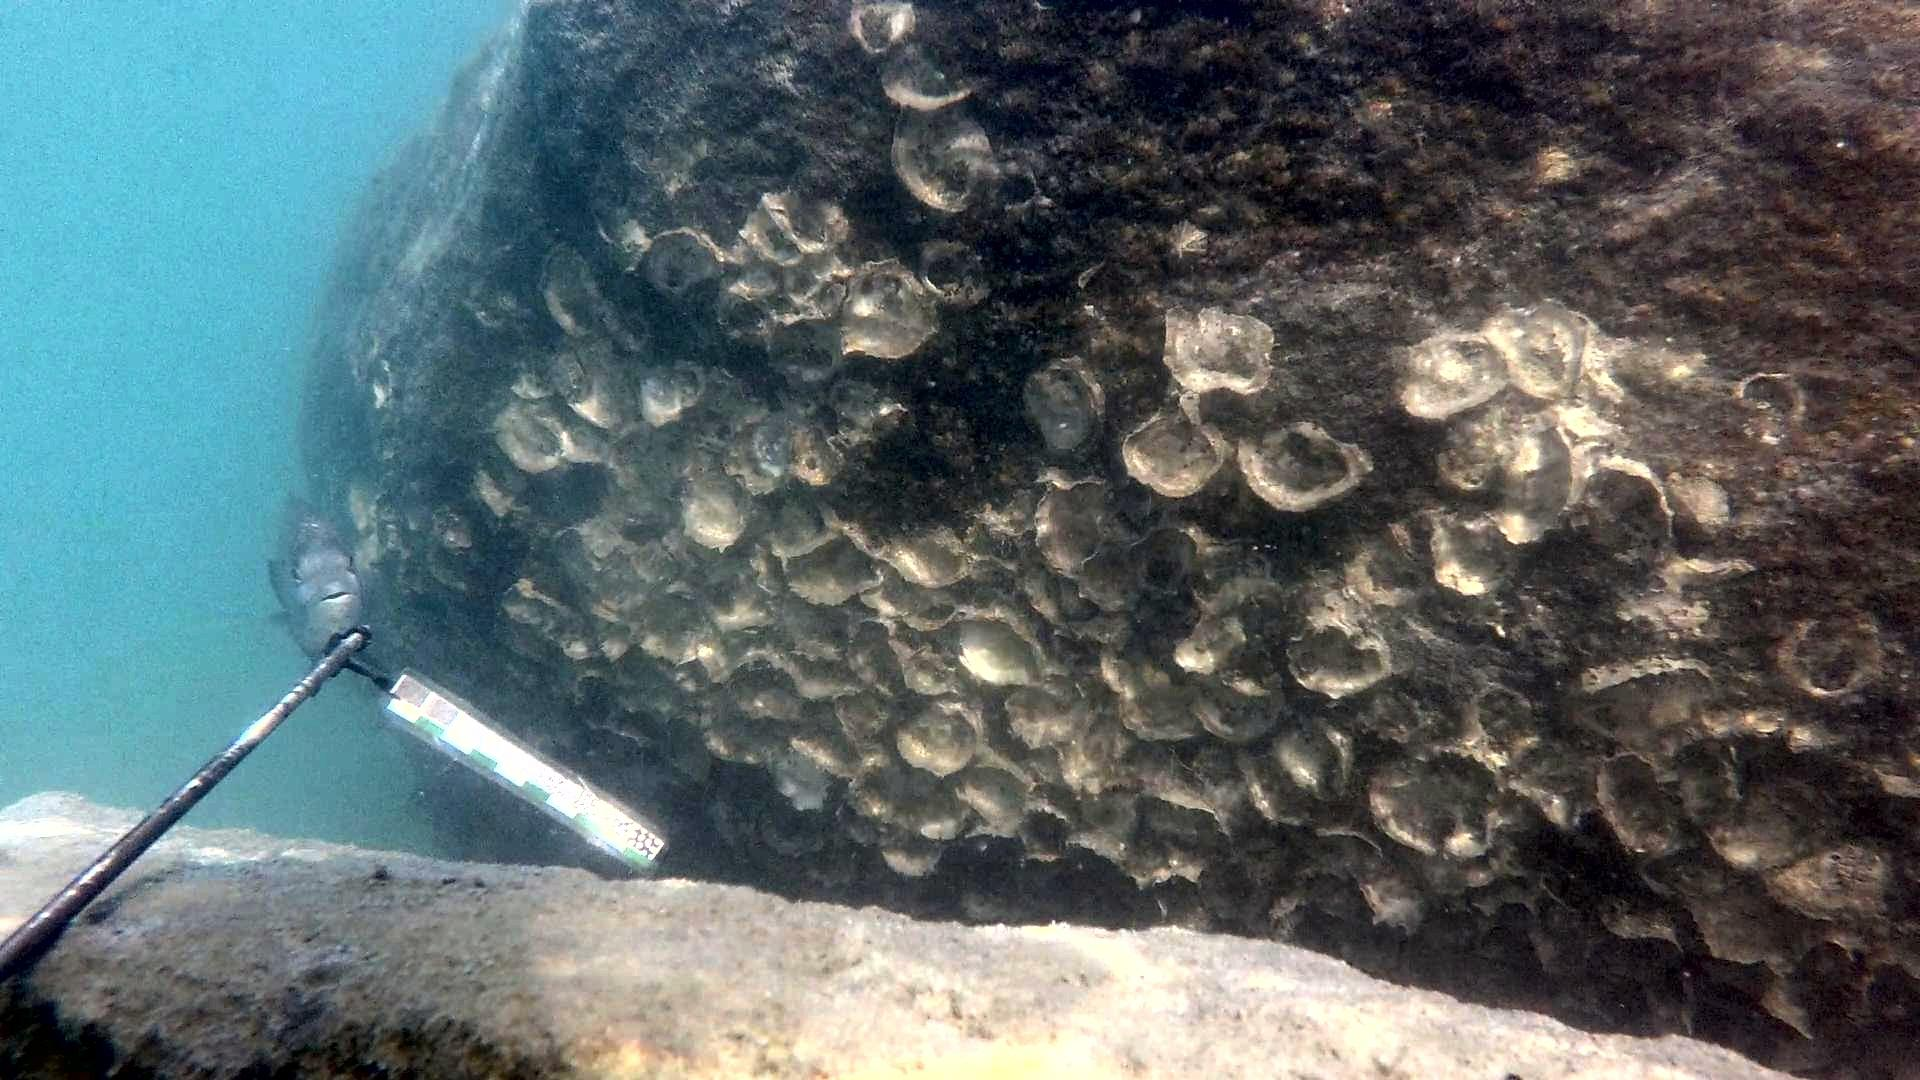acanthopagrus palmaris: (258, 483, 377, 705)
